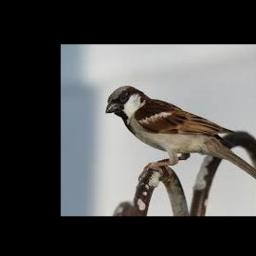Sparrow: (106, 86, 256, 190)
